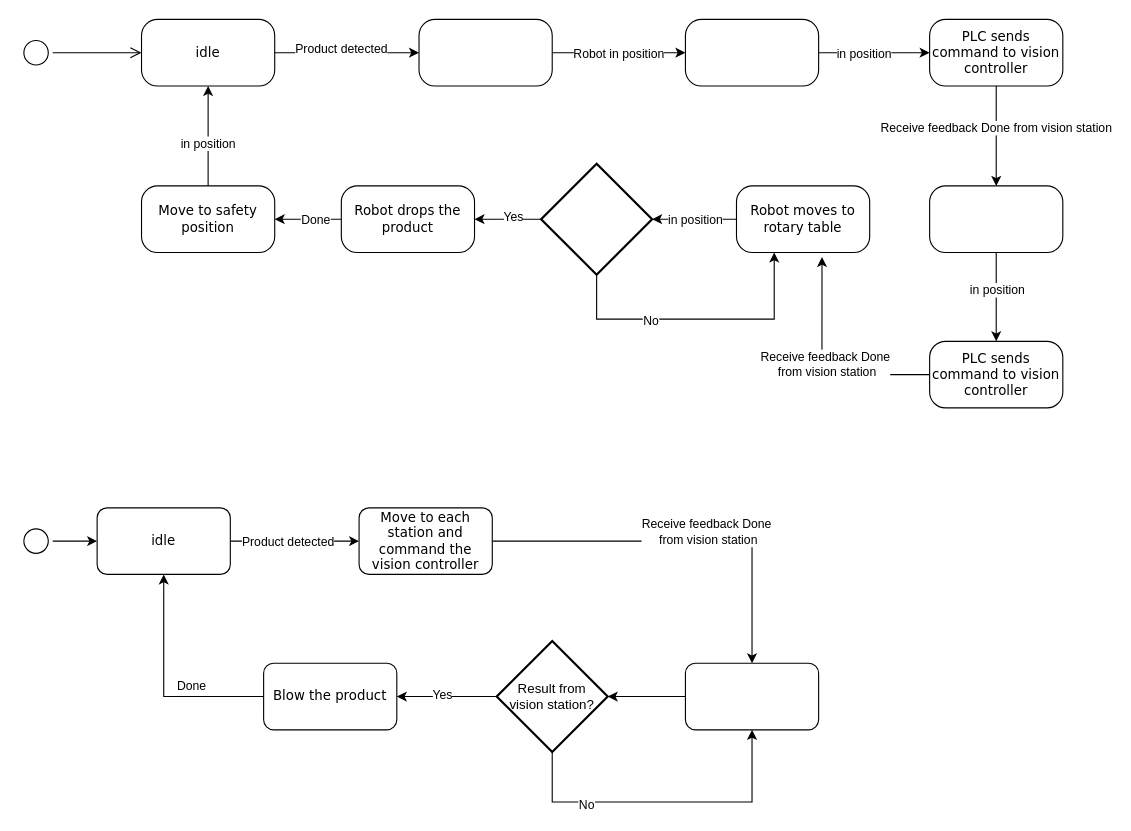
Some shapes in this 1131 by 831 pixel diagram are drawn without their labels. Each missing label, with the box of its shape:
Move to reject area: (684, 662, 819, 730)
Robot moves to vision station 1: (684, 18, 819, 86)
Robot moves to vision station 2: (929, 185, 1063, 253)
Robot picks product: (418, 18, 552, 86)
Rotary table in position?: (539, 162, 653, 275)
